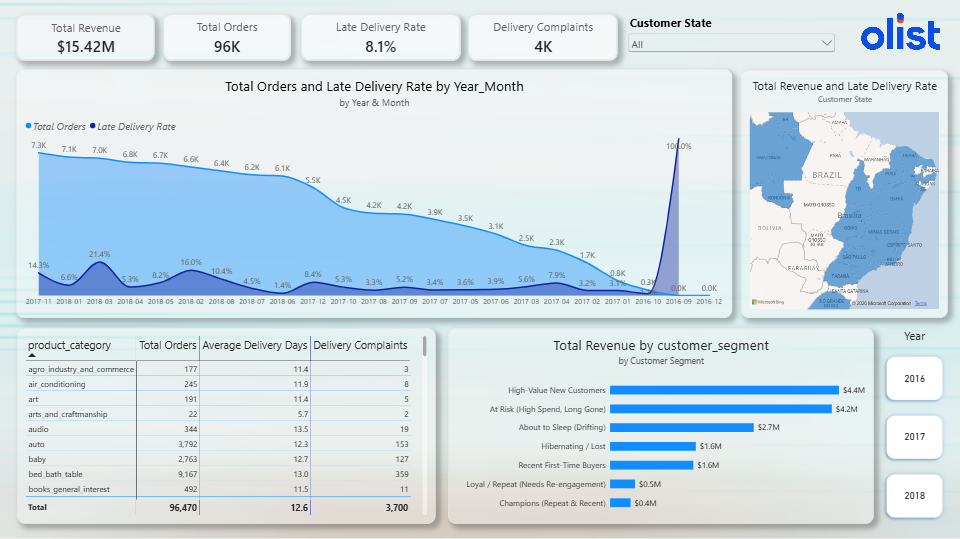

This screenshot's page, from the dashboard's own definition file:
{"tool":"powerbi","page":{"name":"Page 1","canvas":[1920,1080],"ordinal":0},"visuals":[{"type":"cardVisual","fields":{"Data":["_Key_Measures.Total Orders"]},"box":[326.2,32.4,254.9,92.9],"z":0},{"type":"cardVisual","fields":{"Data":["_Key_Measures.Late Delivery Rate"]},"box":[602.6,32.4,317.5,92.9],"z":1000},{"type":"cardVisual","fields":{"Data":["_Key_Measures.Delivery Complaints"]},"box":[935.3,32.4,298.1,92.9],"z":2000},{"type":"cardVisual","fields":{"Data":["_Key_Measures.Total Revenue"]},"box":[34.6,32.4,276.5,92.9],"z":3000},{"type":"lineChart","fields":{"Category":["Dim_Calender.Year_Month"],"Y":["_Key_Measures.Total Orders"],"Y2":["_Key_Measures.Late Delivery Rate"]},"box":[33.9,141.5,1426.7,496.2],"z":4000},{"type":"clusteredBarChart","fields":{"Category":["Dim_Customers_RFM.customer_segment"],"Y":["_Key_Measures.Total Revenue"]},"box":[894,658,848,390],"z":5000},{"type":"pivotTable","fields":{"Rows":["Fact_Orders.product_category"],"Values":["_Key_Measures.Total Orders","_Key_Measures.Average Delivery Days","_Key_Measures.Delivery Complaints"]},"box":[36,658,834,390],"z":6000},{"type":"slicer","fields":{"Values":["Fact_Orders.customer_state"]},"box":[1250,34.3,421.4,87.1],"z":7000},{"type":"image","box":[1671.4,0,248.6,142.9],"z":8000},{"type":"advancedSlicerVisual","fields":{"Values":["Dim_Calender.Year"]},"box":[1758,658,134,390],"z":9000},{"type":"filledMap","title":"Total Revenue and Late Delivery Rate","fields":{"Category":["Dim_Customers_RFM.customer_state"]},"box":[1478.5,143.5,412.5,494.2],"z":10000}]}

Visuals, with their boxes in screenshot pixels (x1, y1, x2, y2), scaled from the page's 1920x1080 canvas onto the 960x539 screenshot:
cardVisual - _Key_Measures.Total Orders: x1=163 y1=16 x2=291 y2=63
cardVisual - _Key_Measures.Late Delivery Rate: x1=301 y1=16 x2=460 y2=63
cardVisual - _Key_Measures.Delivery Complaints: x1=468 y1=16 x2=617 y2=63
cardVisual - _Key_Measures.Total Revenue: x1=17 y1=16 x2=156 y2=63
lineChart - Dim_Calender.Year_Month x _Key_Measures.Total Orders: x1=17 y1=71 x2=730 y2=318
clusteredBarChart - Dim_Customers_RFM.customer_segment x _Key_Measures.Total Revenue: x1=447 y1=328 x2=871 y2=523
pivotTable - Fact_Orders.product_category x _Key_Measures.Total Orders: x1=18 y1=328 x2=435 y2=523
slicer - Fact_Orders.customer_state: x1=625 y1=17 x2=836 y2=61
image: x1=836 y1=0 x2=959 y2=71
advancedSlicerVisual - Dim_Calender.Year: x1=879 y1=328 x2=946 y2=523
"Total Revenue and Late Delivery Rate" filledMap: x1=739 y1=72 x2=946 y2=318
